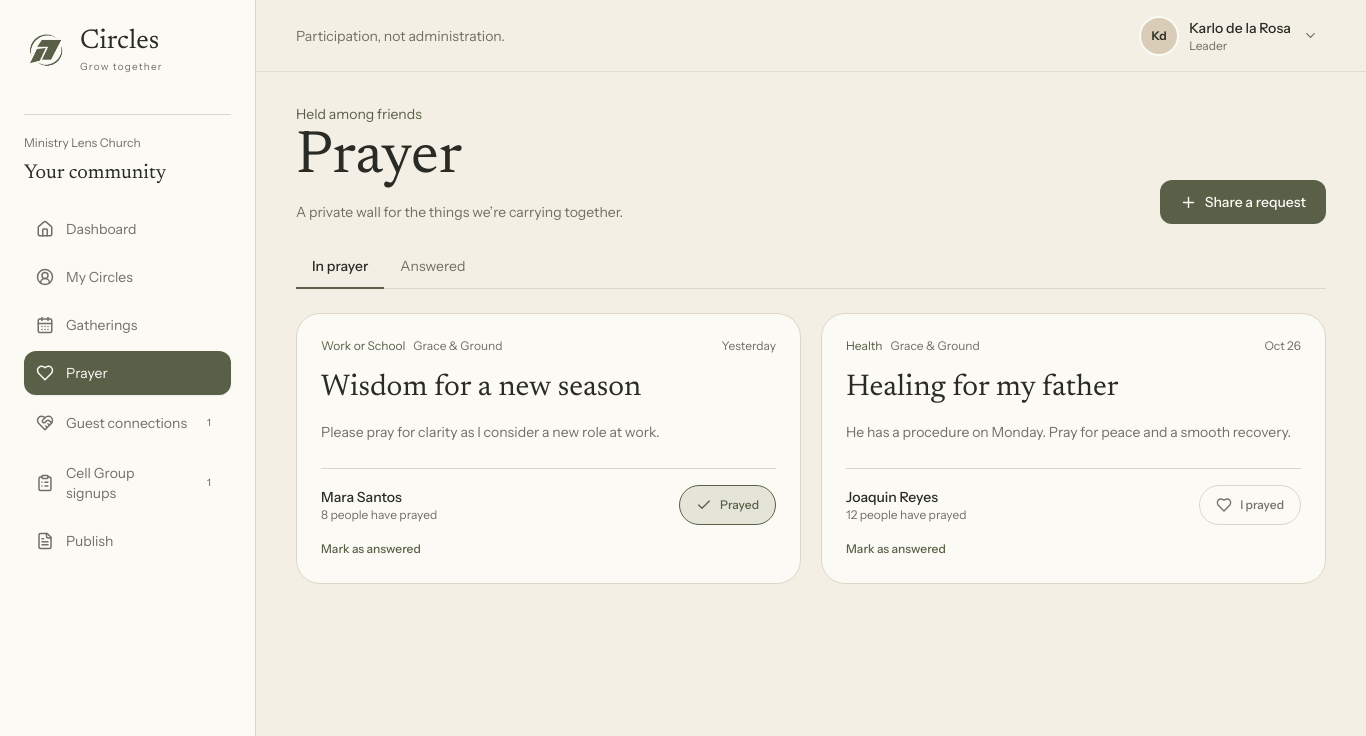
it: Circles MVP › shares a prayer with the entire organization and labels its audience
Click the button "Share a request" at (1243, 202), box x1=1160 y1=180 x2=1326 y2=224
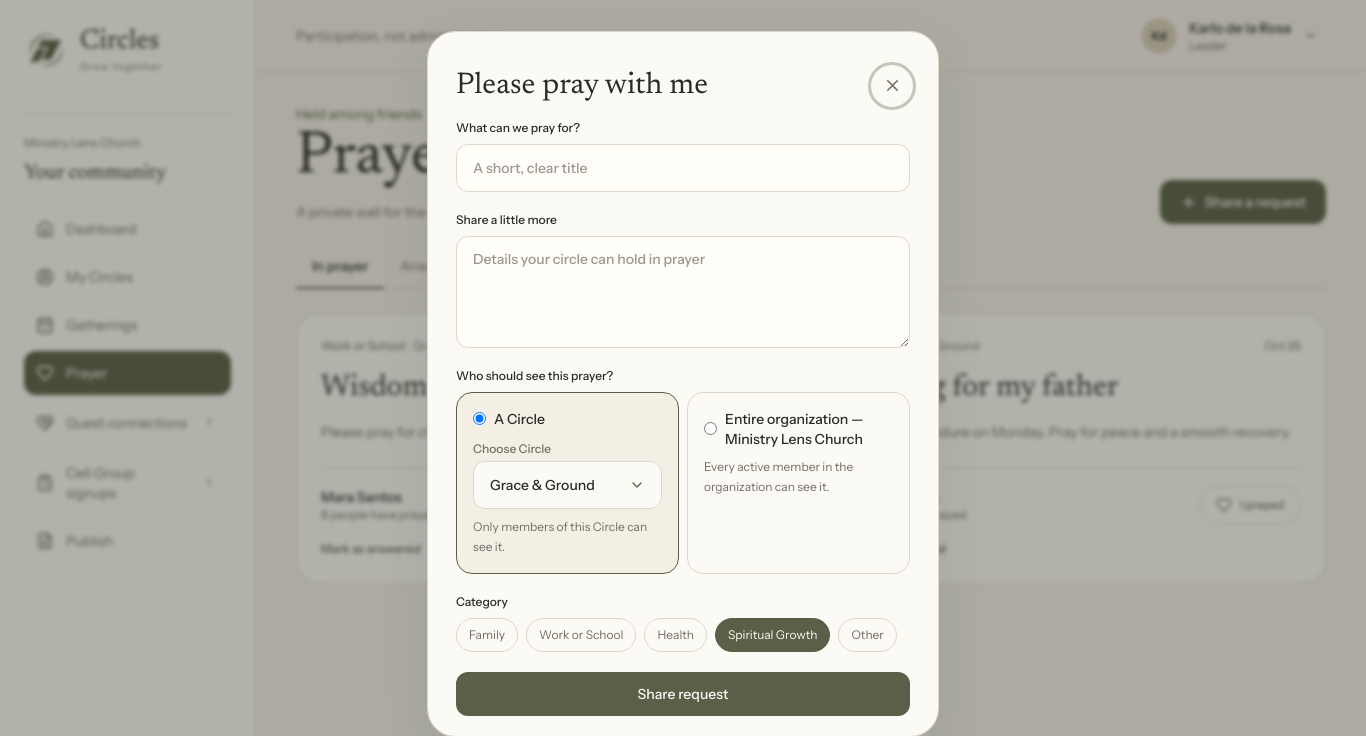
Check: the radio button labelled "A Circle" is checked, box x1=473 y1=412 x2=486 y2=425
Check: the dropdown labelled "Choose Circle" shows "Grace & Ground", box x1=473 y1=461 x2=662 y2=509
Click the 2nd radio button at (710, 429), box x1=704 y1=422 x2=717 y2=435
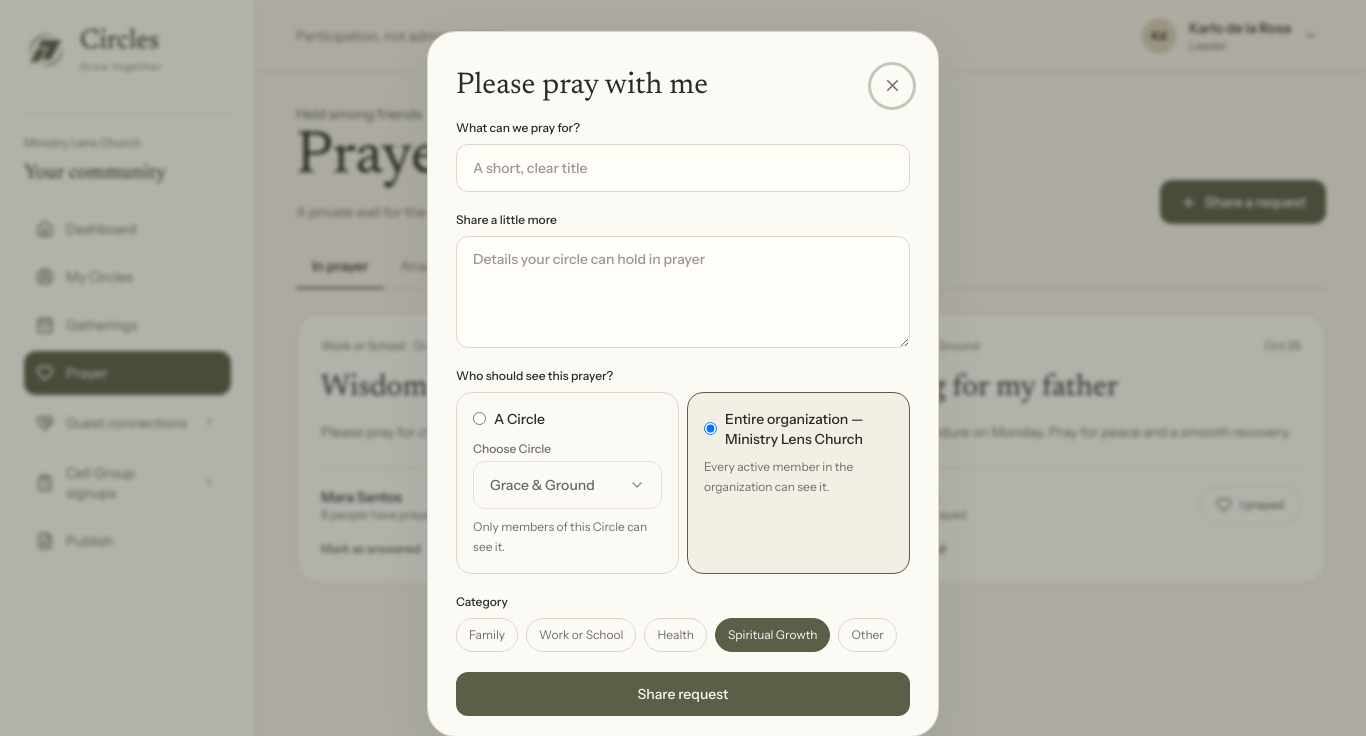
Type "Wisdom for our church" into the field labelled "What can we pray for?" at (683, 168), box x1=456 y1=144 x2=910 y2=192
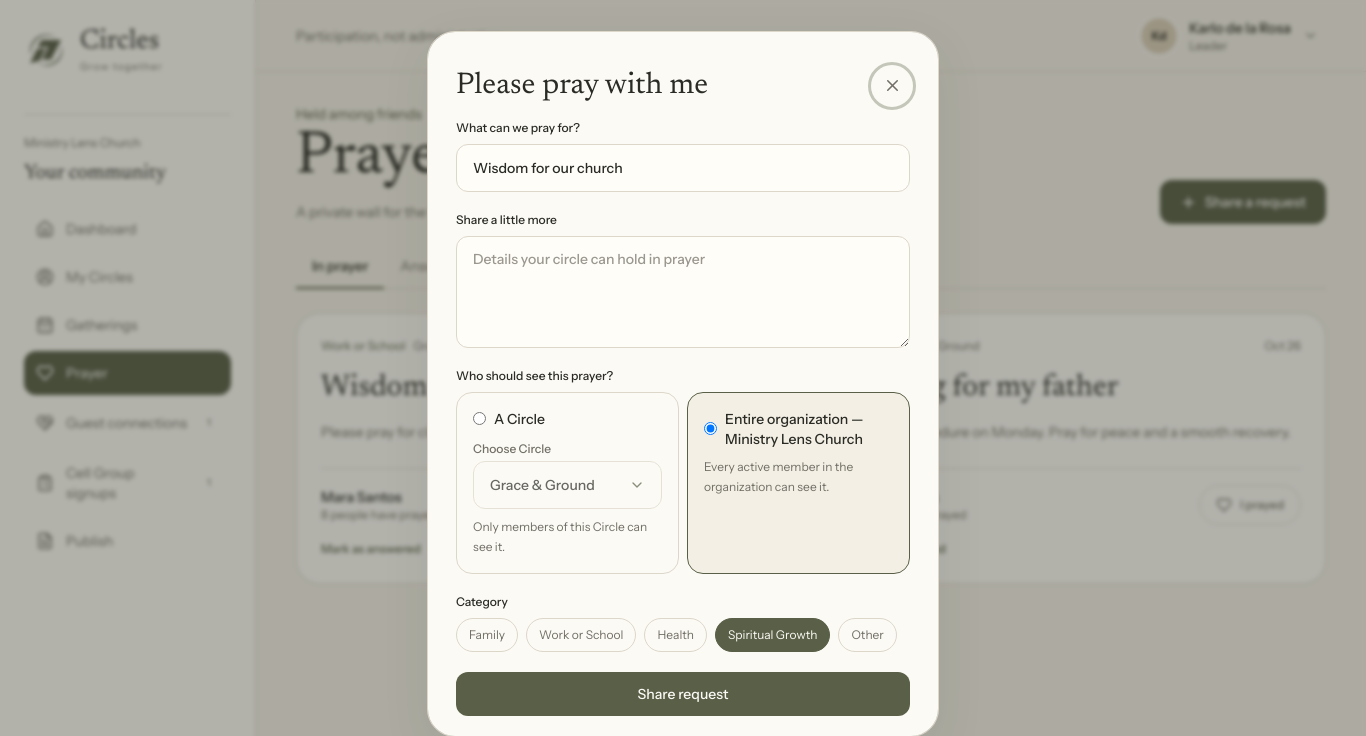
Click the button "Share request" at (683, 694), box x1=456 y1=672 x2=910 y2=716
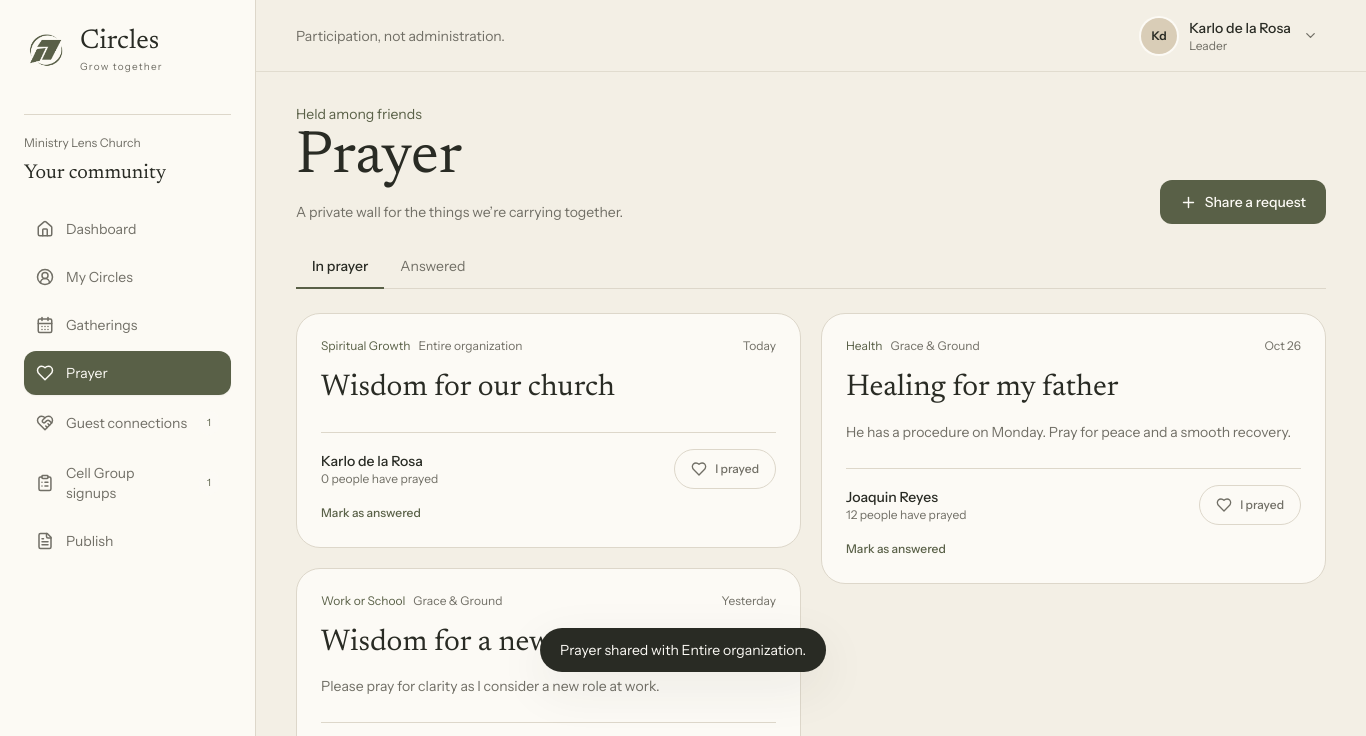
Check: the element "Wisdom for our church" is shown, box x1=296 y1=313 x2=801 y2=548
Check: the text "Entire organization" is shown, box x1=418 y1=338 x2=522 y2=354
